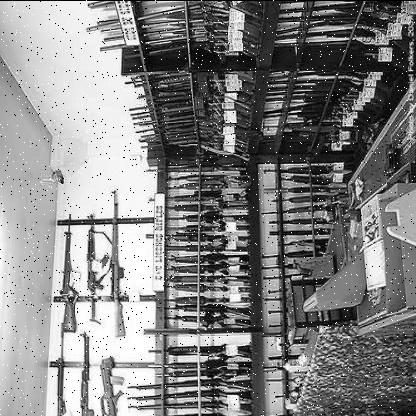rifle: (107, 171, 142, 343), (76, 201, 115, 327), (57, 206, 90, 330), (69, 328, 98, 416), (99, 348, 133, 416)
